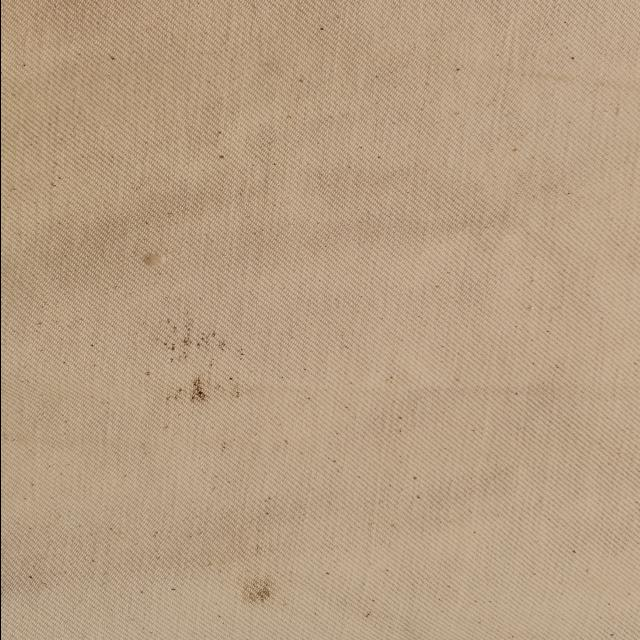taaaches: (158, 322, 256, 368), (160, 378, 256, 420), (232, 574, 296, 611)
